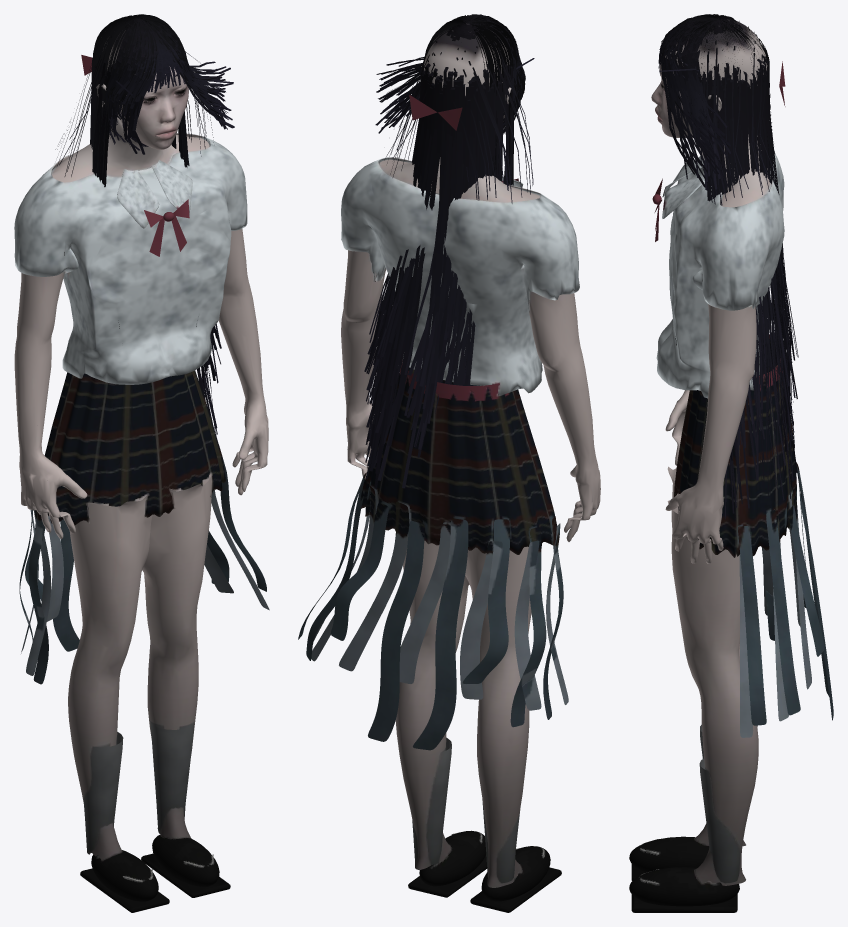
The model's file is classroom.glb.
3 views of the same model, side by side, from view 1: azimuth 30°, elevation 25°; view 2: azimuth 150°, elevation 25°; view 3: azimuth 270°, elevation 25° (orthographic). The views are drawn at different scales.
Visible parts, largest first — view 1: GhostBody, GhostHair; view 2: GhostBody, GhostHair; view 3: GhostBody, GhostHair.
Part boxes in pixels (left/top/right/bottom): GhostBody: left=14, top=30, right=269, bottom=912; GhostHair: left=55, top=14, right=234, bottom=434; GhostBody: left=298, top=23, right=600, bottom=912; GhostHair: left=364, top=14, right=534, bottom=489; GhostBody: left=629, top=19, right=833, bottom=912; GhostHair: left=658, top=14, right=798, bottom=519.
Size of the model in its own units: 0.5589 by 1.72 by 0.3654.
2 materials, 1 textured.
